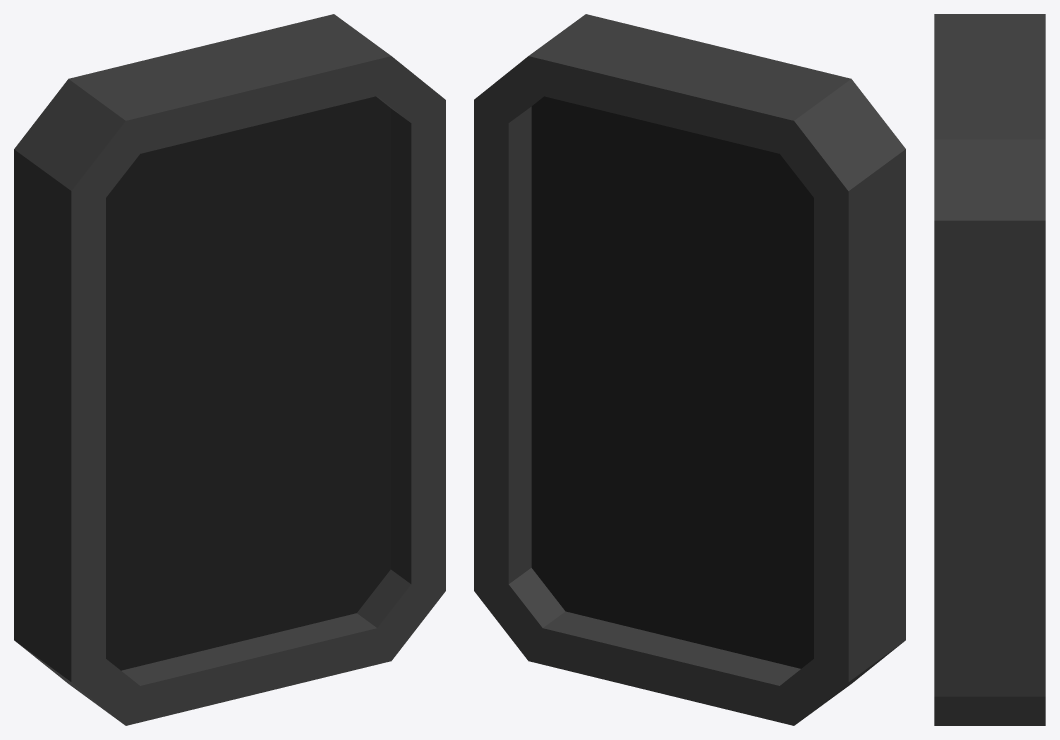
File: passageway_006.fbx
3 views of the same model, side by side, from view 1: azimuth 30°, elevation 25°; view 2: azimuth 150°, elevation 25°; view 3: azimuth 270°, elevation 25° (orthographic). The views are drawn at different scales.
Visible parts, largest first — view 1: passageway_006; view 2: passageway_006; view 3: passageway_006.
Boxes of the visible parts, box(x1,y1,x2,y2) form: passageway_006: box(14, 14, 445, 725); passageway_006: box(474, 14, 905, 725); passageway_006: box(934, 14, 1045, 725).
Bounding box in the file's own units: 205 × 54.48 × 316.
